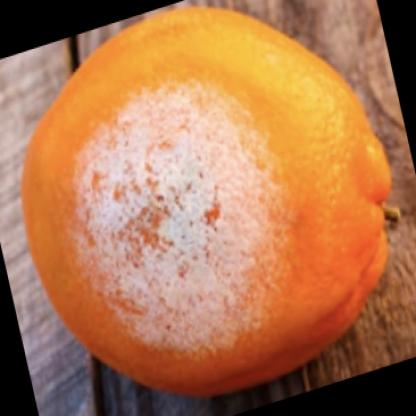rotten: (21, 10, 386, 392)
